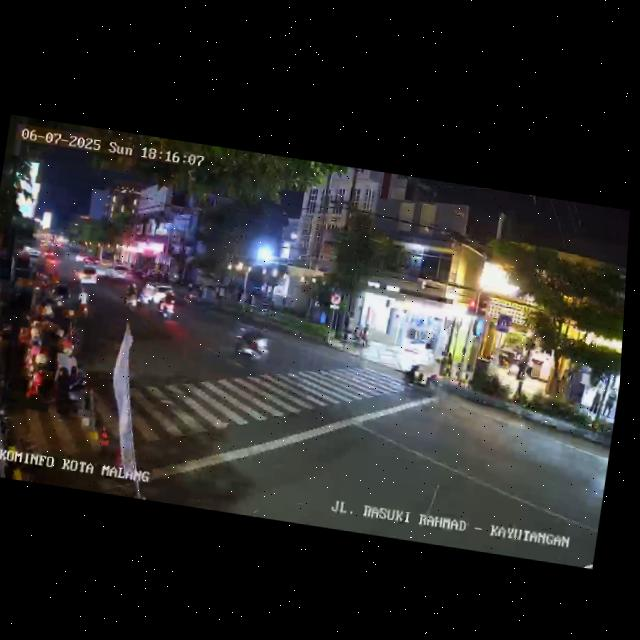car: (137, 278, 175, 309), (69, 261, 98, 288), (103, 262, 129, 283)
motorcycle: (229, 322, 273, 365), (401, 355, 442, 396), (155, 288, 178, 323), (72, 286, 93, 322), (122, 282, 142, 312), (180, 282, 197, 306)
person: (47, 352, 74, 420), (56, 341, 81, 389), (356, 322, 371, 348), (590, 388, 602, 417), (600, 392, 612, 420)
